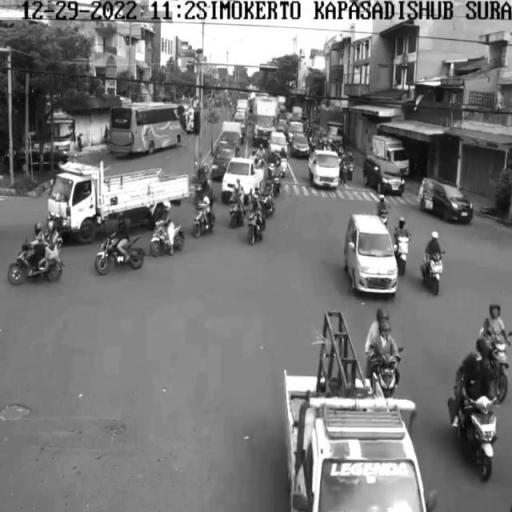bus: (109, 102, 185, 156)
car: (345, 215, 398, 296), (419, 179, 476, 227), (359, 155, 408, 195)
motorcycle: (447, 391, 496, 484), (94, 234, 146, 276), (7, 250, 66, 282), (484, 332, 510, 400), (371, 344, 399, 396), (150, 220, 186, 259), (424, 247, 441, 299), (191, 210, 217, 240), (247, 213, 265, 249), (396, 233, 410, 272), (228, 201, 245, 232), (376, 214, 391, 228)
truck: (277, 372, 430, 510), (49, 161, 187, 241), (310, 148, 340, 190), (212, 142, 238, 180)
